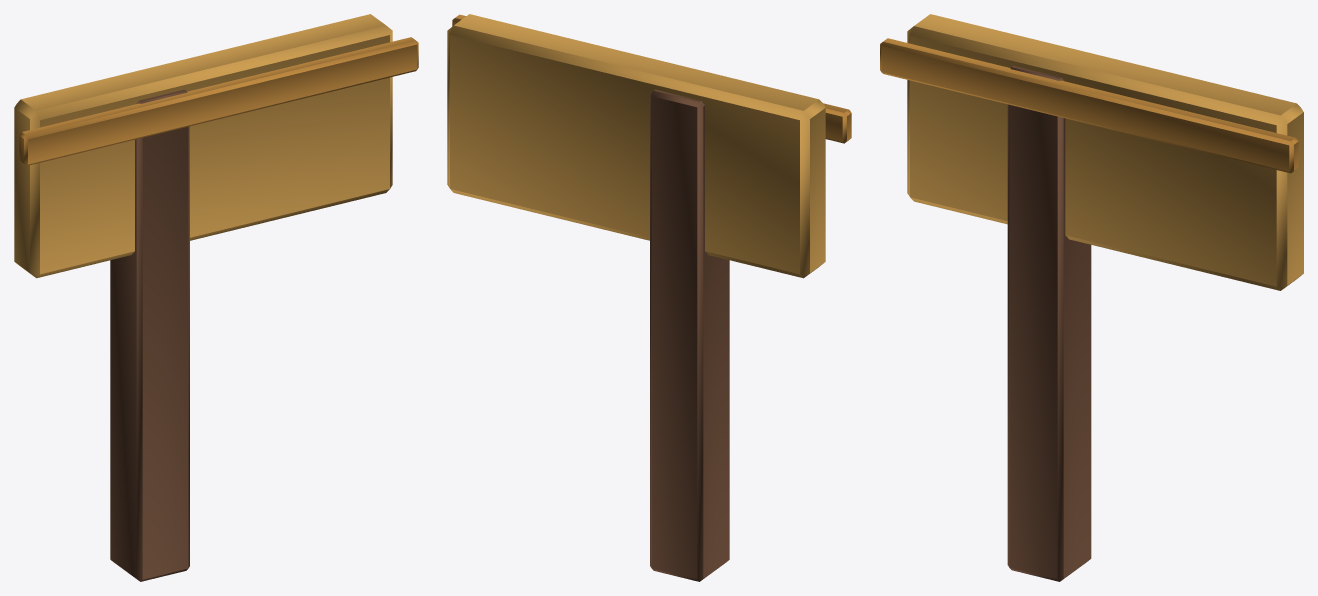
The model's file is prop_sign.glb.
3 renders of one model, left to right at view 1: azimuth 30°, elevation 25°; view 2: azimuth 150°, elevation 25°; view 3: azimuth 330°, elevation 25°, orthographic. The views are drawn at different scales.
Visible parts, largest first — view 1: sign_board, sign_pole, sign_trim; view 2: sign_board, sign_pole, sign_trim; view 3: sign_board, sign_pole, sign_trim.
Part boxes in pixels (bbox=[...]): sign_board: bbox=[14, 14, 392, 278]; sign_pole: bbox=[110, 89, 189, 581]; sign_trim: bbox=[19, 37, 418, 165]; sign_board: bbox=[447, 14, 825, 278]; sign_pole: bbox=[650, 89, 729, 581]; sign_trim: bbox=[452, 14, 851, 143]; sign_board: bbox=[907, 14, 1303, 290]; sign_pole: bbox=[1007, 66, 1091, 581]; sign_trim: bbox=[880, 38, 1298, 173].
Size of the model in its own units: 0.74 by 0.88 by 0.1125.
